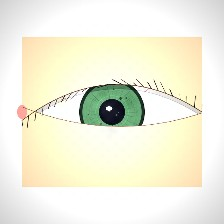pinguecula_lesion: (49, 91, 81, 117)
